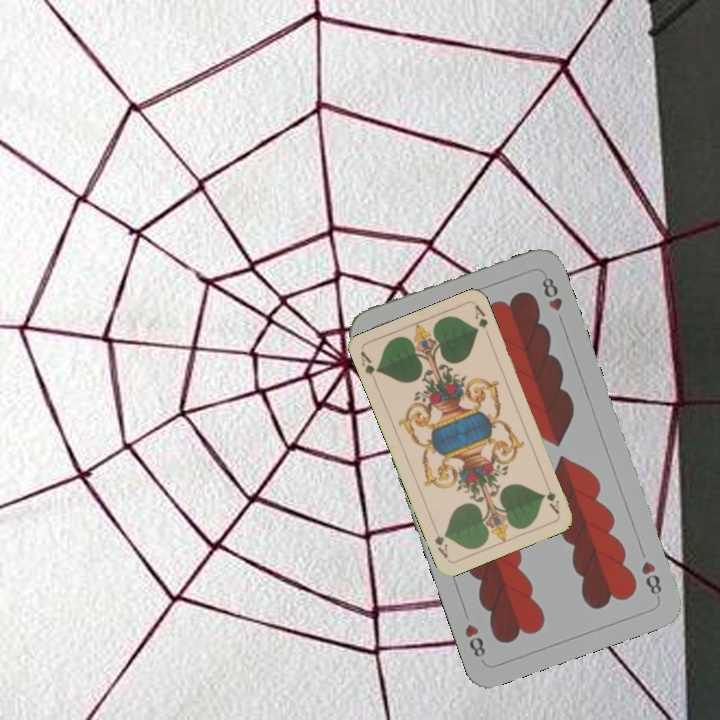GA: (541, 478, 562, 517), (357, 348, 382, 378)
H8: (637, 557, 665, 602)
